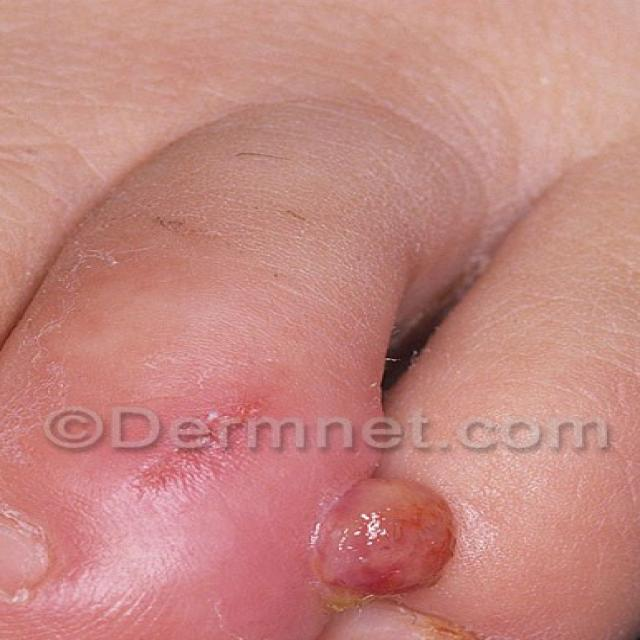Vascular Tumors: (321, 475, 468, 602)
